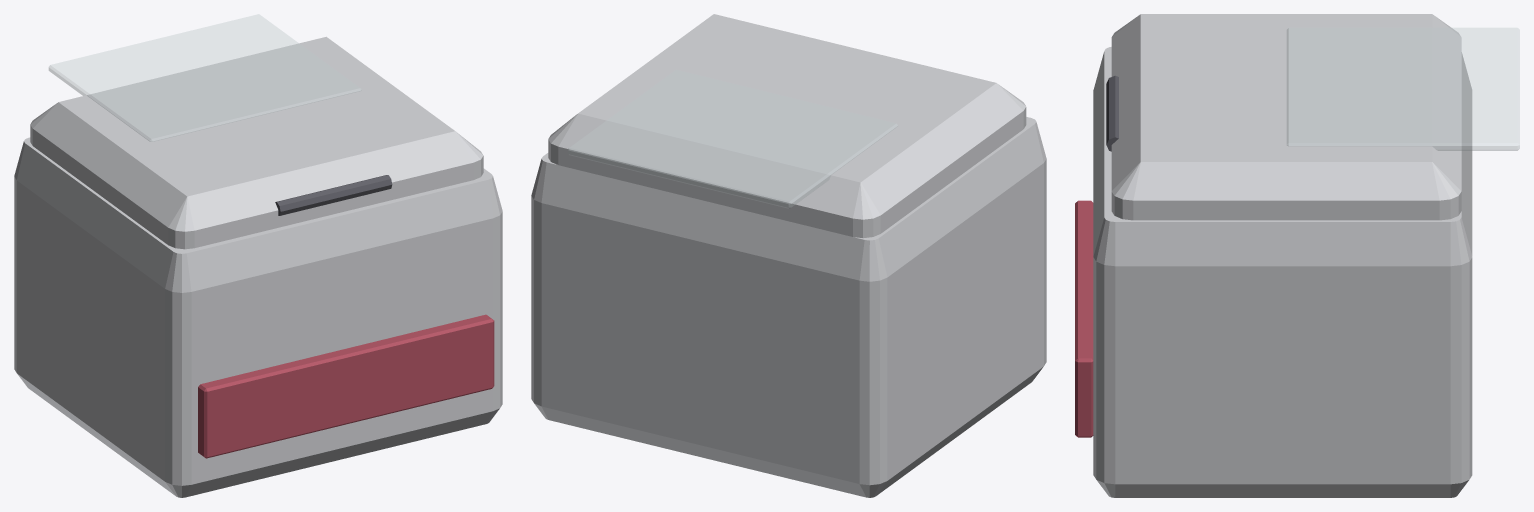
File: butchers-shop-and-deli-counter-vacuum-packer-5e364d1c__34448.glb
The picture shows the model from 3 angles, left to right: view 1: azimuth 30°, elevation 25°; view 2: azimuth 150°, elevation 25°; view 3: azimuth 270°, elevation 25°; orthographic projection. The views are drawn at different scales.
Parts seen in each view (by area): view 1: vacuum-packer, packer-lid/metal, packer-lid/glass, packer-lid/dark; view 2: vacuum-packer, packer-lid/metal, packer-lid/glass; view 3: vacuum-packer, packer-lid/metal, packer-lid/glass, packer-lid/dark.
Part boxes in pixels (x1,y1,x2,y2): vacuum-packer: [14, 137, 502, 497]; packer-lid/metal: [30, 36, 483, 249]; packer-lid/glass: [49, 14, 361, 141]; packer-lid/dark: [275, 175, 392, 215]; vacuum-packer: [531, 117, 1046, 497]; packer-lid/metal: [548, 14, 1026, 238]; packer-lid/glass: [568, 70, 897, 208]; vacuum-packer: [1075, 47, 1472, 497]; packer-lid/metal: [1111, 14, 1461, 220]; packer-lid/glass: [1287, 28, 1519, 150]; packer-lid/dark: [1106, 75, 1118, 151].
Size of the model in its own units: 0.6 by 0.494 by 0.61.
